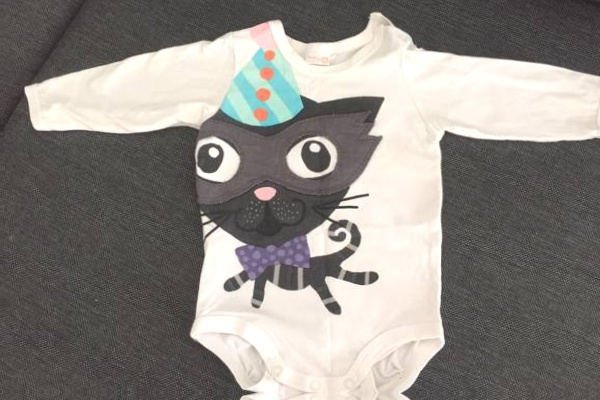Body: (13, 14, 600, 389), (12, 398, 600, 400)
